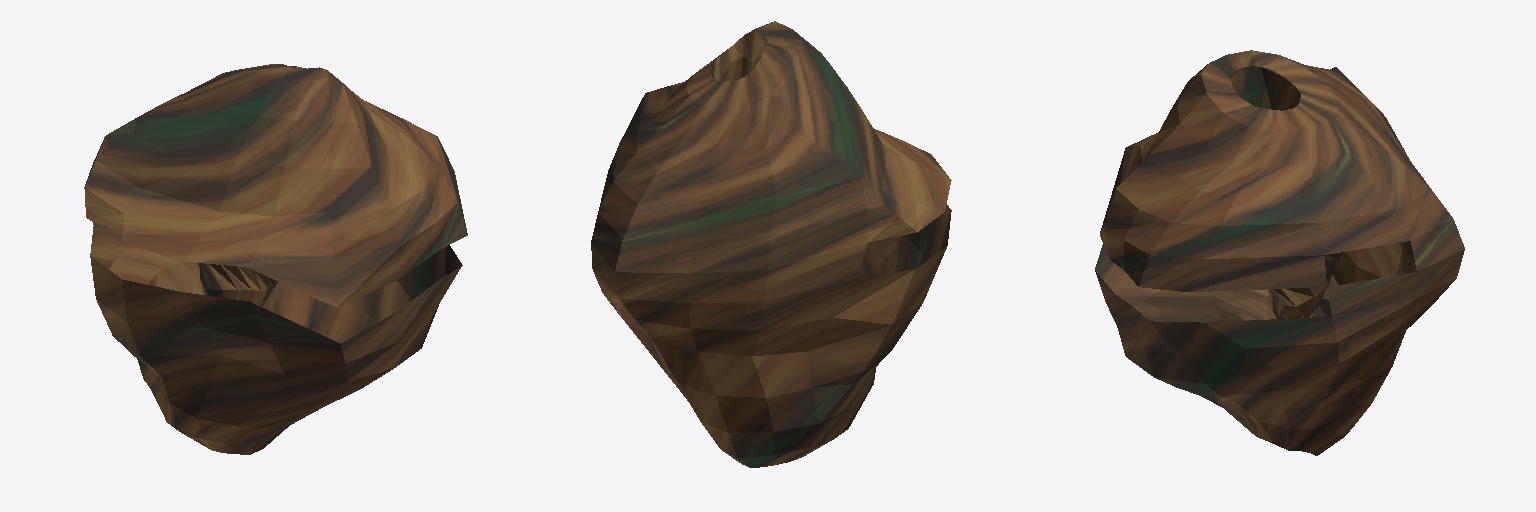
The picture shows the model from 3 angles: view 1: azimuth 30°, elevation 25°; view 2: azimuth 150°, elevation 25°; view 3: azimuth 270°, elevation 25°; orthographic projection.
Parts seen in each view (by area): view 1: pSphere1; view 2: pSphere1; view 3: pSphere1.
Boxes of the visible parts, box(x1,y1,x2,y2) form: pSphere1: box(84, 64, 467, 454); pSphere1: box(591, 21, 951, 467); pSphere1: box(1095, 50, 1464, 455).
Size of the model in its own units: 8.55 by 10.14 by 8.59.
1 materials, 1 textured.